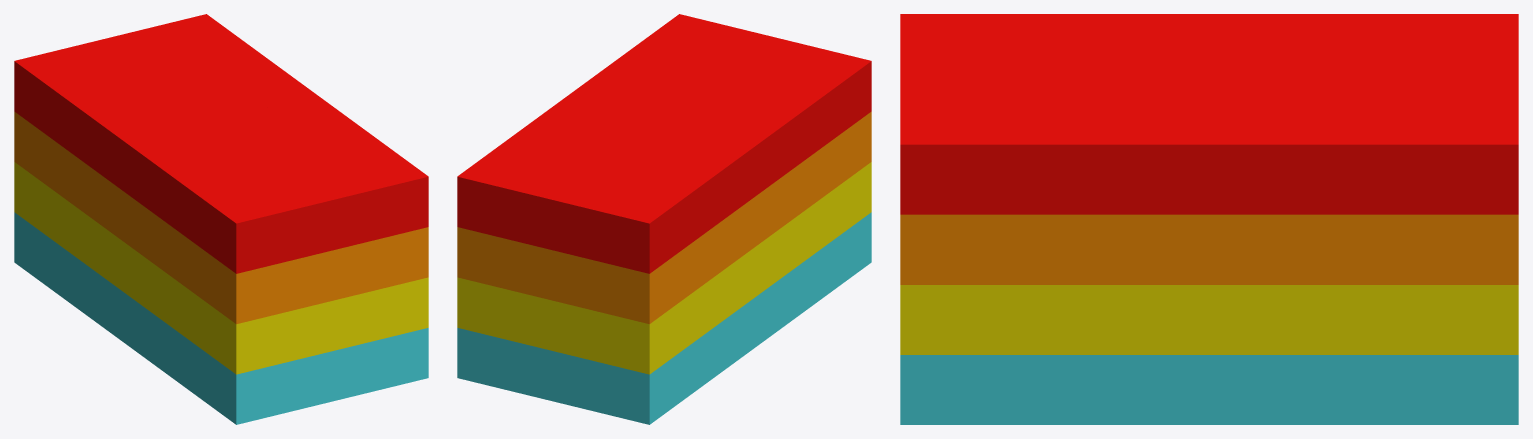
File: pastry1.fbx
3 views of the same model, side by side, from view 1: azimuth 30°, elevation 25°; view 2: azimuth 150°, elevation 25°; view 3: azimuth 270°, elevation 25° (orthographic). The views are drawn at different scales.
Parts seen in each view (by area): view 1: Cube.185, Cube.189, Cube.183, Cube.184, Cube.182, Cube.186, Cube.187, Cube.188; view 2: Cube.189, Cube.185, Cube.187, Cube.188, Cube.186, Cube.182, Cube.183, Cube.184; view 3: Cube.185, Cube.189, Cube.184, Cube.188, Cube.182, Cube.183, Cube.186, Cube.187.
Part boxes in pixels (bbox=[...]): Cube.185: bbox=[125, 95, 428, 273]; Cube.189: bbox=[14, 14, 316, 192]; Cube.183: bbox=[125, 243, 428, 374]; Cube.184: bbox=[125, 193, 428, 324]; Cube.182: bbox=[125, 293, 428, 424]; Cube.186: bbox=[14, 212, 125, 343]; Cube.187: bbox=[14, 162, 125, 292]; Cube.188: bbox=[14, 111, 125, 242]; Cube.189: bbox=[457, 95, 760, 273]; Cube.185: bbox=[569, 14, 871, 192]; Cube.187: bbox=[457, 243, 760, 374]; Cube.188: bbox=[457, 193, 760, 324]; Cube.186: bbox=[457, 293, 760, 424]; Cube.182: bbox=[760, 212, 871, 343]; Cube.183: bbox=[760, 162, 871, 292]; Cube.184: bbox=[760, 111, 871, 242]; Cube.185: bbox=[900, 14, 1209, 214]; Cube.189: bbox=[1209, 14, 1518, 214]; Cube.184: bbox=[900, 214, 1209, 284]; Cube.188: bbox=[1209, 214, 1518, 284]; Cube.182: bbox=[900, 355, 1209, 424]; Cube.183: bbox=[900, 285, 1209, 354]; Cube.186: bbox=[1209, 355, 1518, 424]; Cube.187: bbox=[1209, 285, 1518, 354].
Size of the model in its own units: 200 by 200 by 400.
